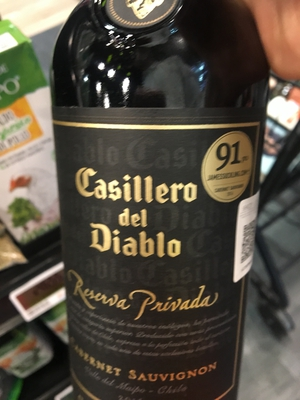casillero del diablo reserva privada cabernet sauvignon: (48, 14, 269, 400)
